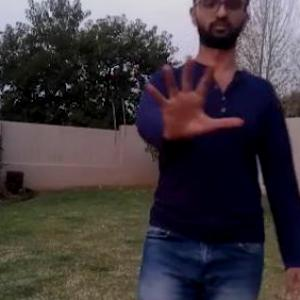follow_hand: (133, 39, 249, 146)
